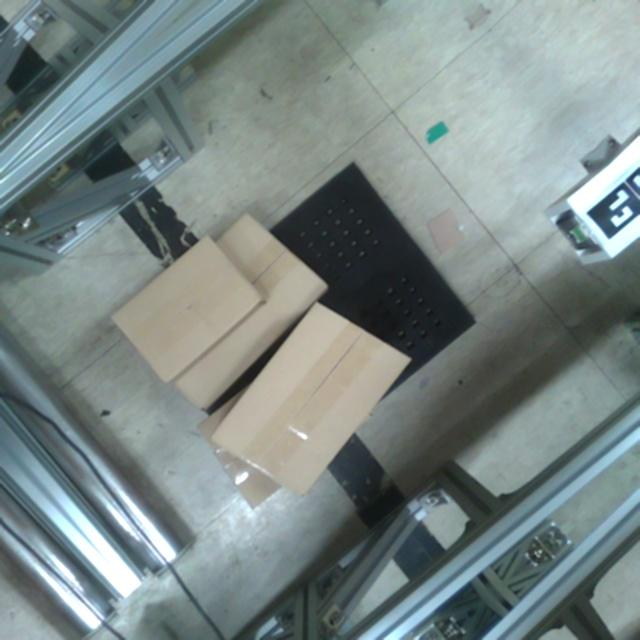box: (205, 296, 413, 499), (108, 228, 265, 389)
